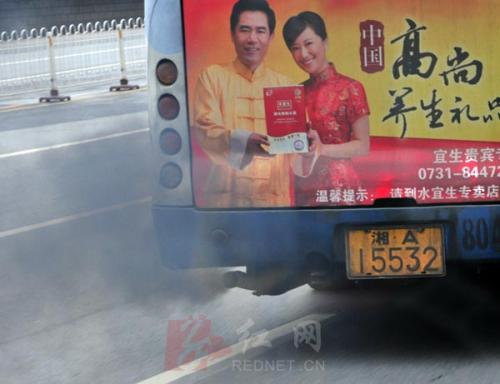smoke: (28, 143, 225, 318)
